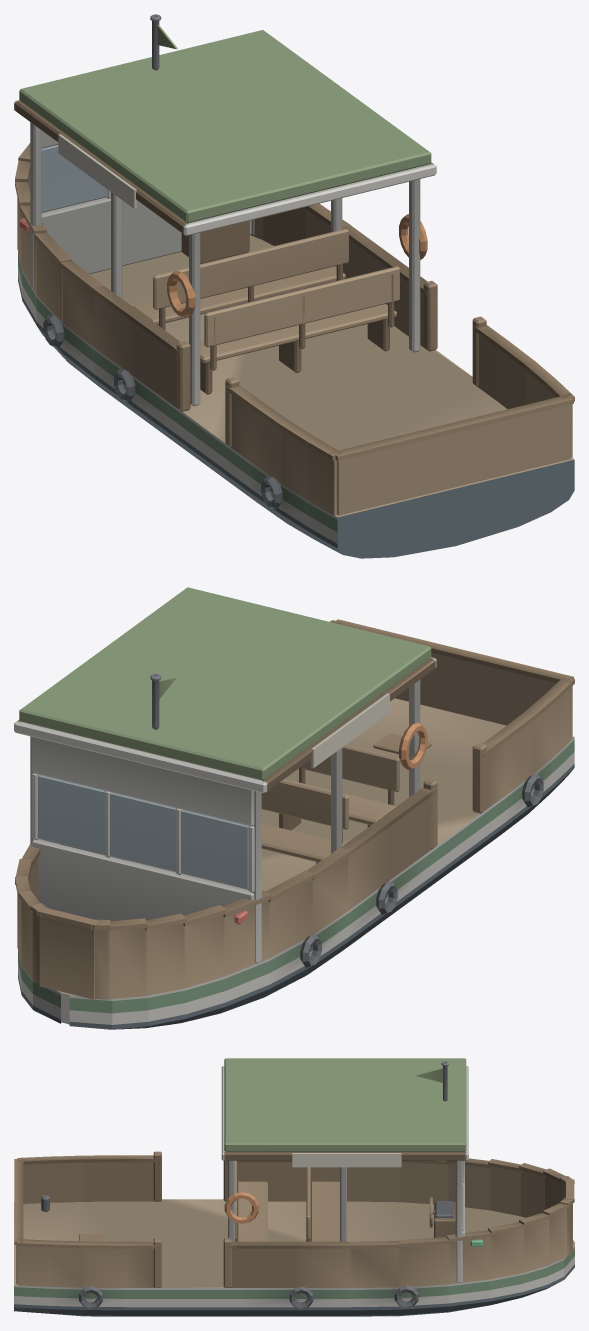
The model's file is ferry.glb.
3 renders of one model, top to bottom at view 1: azimuth 30°, elevation 25°; view 2: azimuth 150°, elevation 25°; view 3: azimuth 270°, elevation 25°, orthographic. The views are drawn at different scales.
Visible parts, largest first — view 1: ferry; view 2: ferry; view 3: ferry.
Part boxes in pixels (left/top/right/bottom): ferry: left=14, top=14, right=574, bottom=558; ferry: left=14, top=587, right=574, bottom=1029; ferry: left=14, top=1058, right=574, bottom=1316.
Bounding box in the file's own units: 3.2 × 3.6 × 8.
